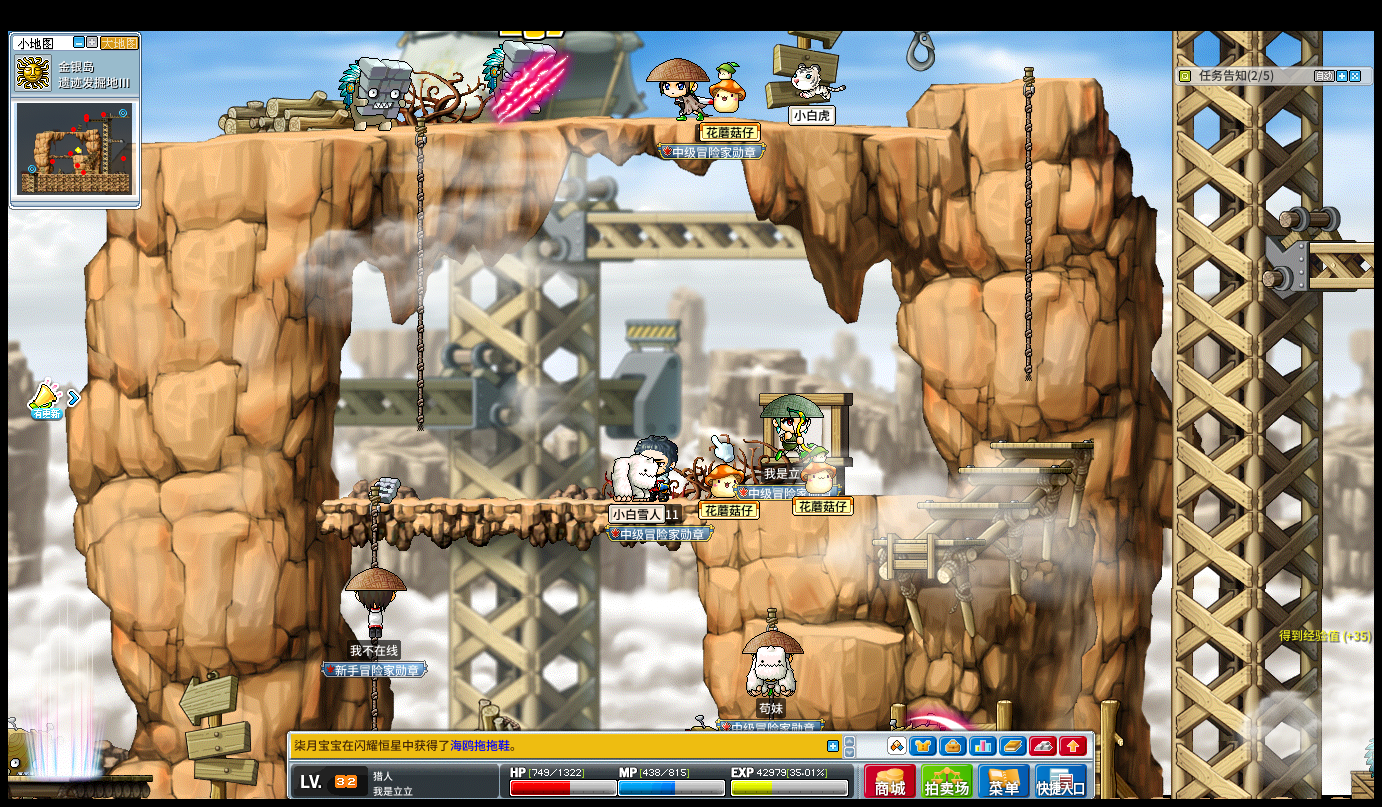floor: (147, 111, 957, 145), (314, 498, 702, 508), (928, 72, 1104, 87), (927, 76, 1104, 90), (797, 621, 904, 644), (870, 536, 986, 550), (870, 533, 985, 546), (831, 491, 955, 501), (990, 438, 1095, 449), (953, 464, 1067, 474), (917, 498, 1027, 508), (1305, 238, 1380, 251), (832, 491, 953, 499), (916, 501, 1026, 509)
monster: (482, 37, 553, 120), (339, 54, 410, 132), (2, 721, 36, 779), (1367, 735, 1381, 794)
rope: (1021, 59, 1035, 386), (413, 111, 425, 431), (366, 484, 380, 567), (368, 677, 377, 730)
